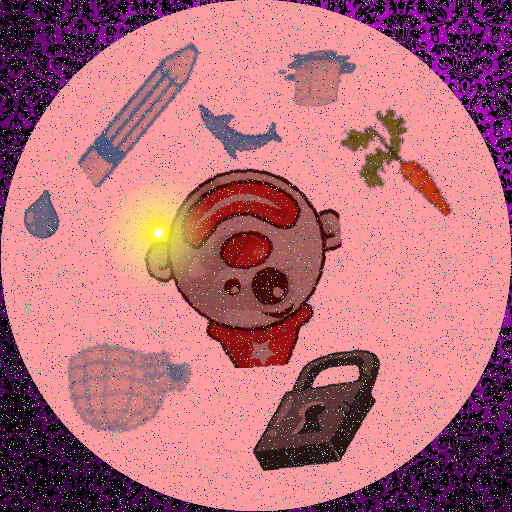carrot_icon: (337, 90, 476, 229)
clown_icon: (140, 165, 343, 368)
cube_icon: (275, 39, 361, 125)
dolphin_icon: (192, 85, 283, 176)
igloo_icon: (66, 316, 196, 446)
lock_icon: (241, 337, 391, 487)
pen_icon: (60, 30, 224, 194)
raindrop_icon: (18, 190, 68, 240)
